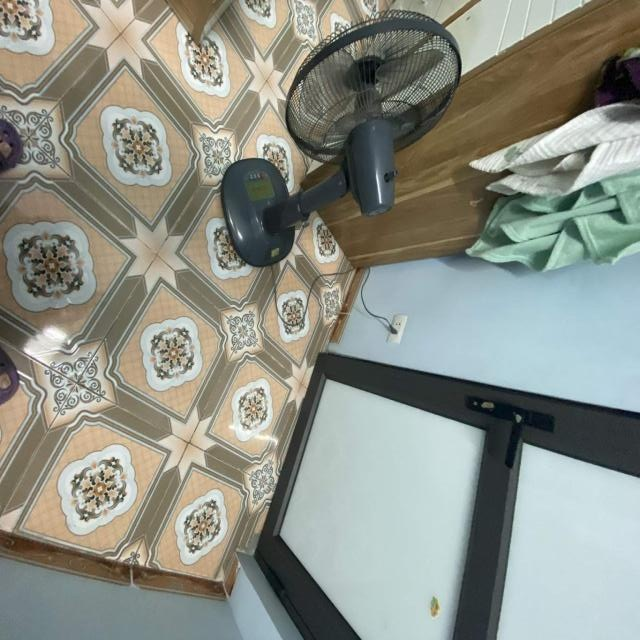outlet: (386, 314, 408, 344)
